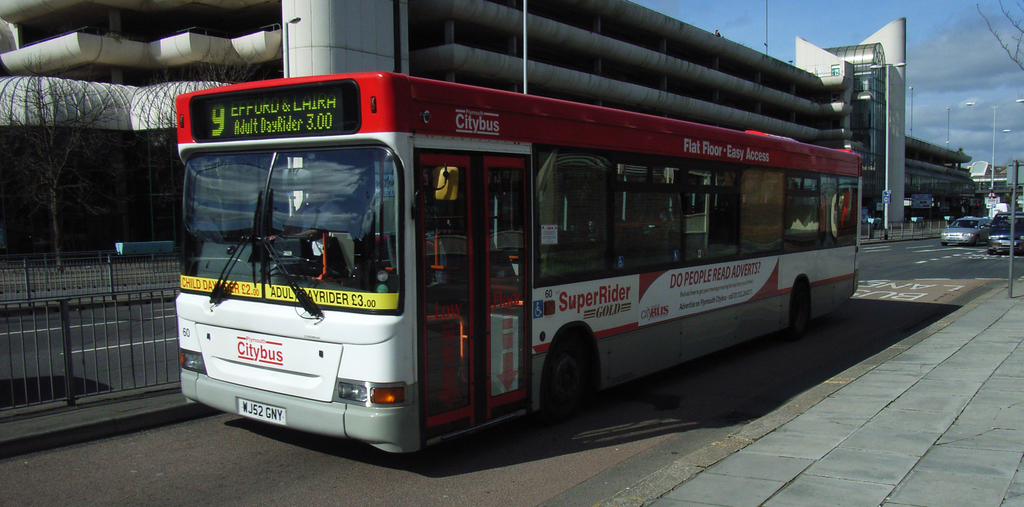Car: (941, 213, 990, 245), (988, 208, 1023, 252)
